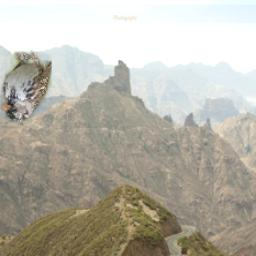Sparrow: (1, 50, 52, 121)
